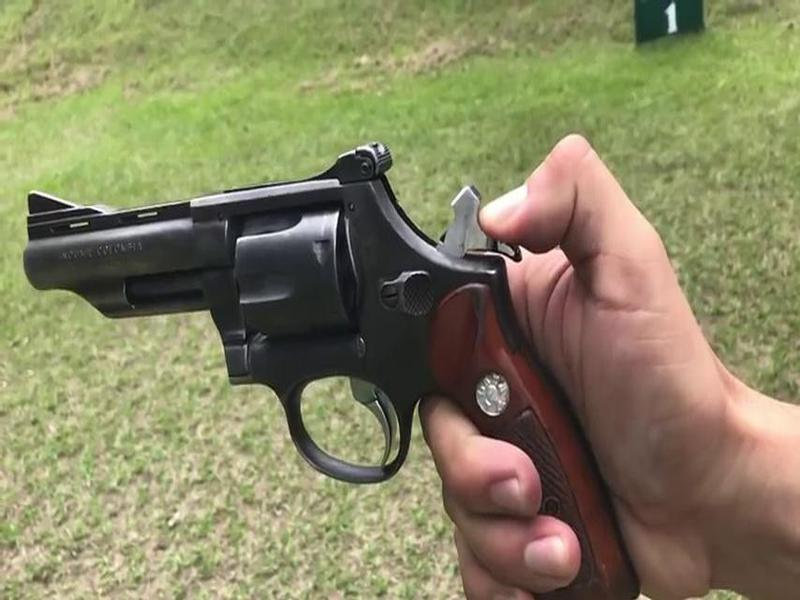Revolver: (26, 135, 631, 589)
